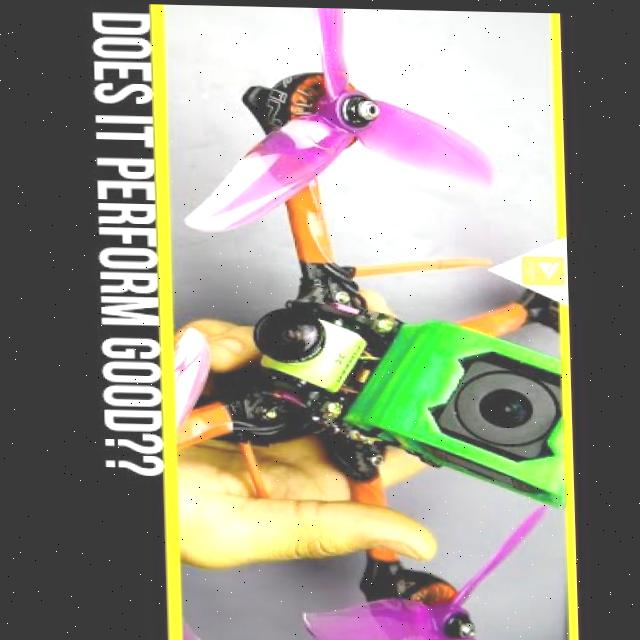drone: (113, 54, 571, 640)
